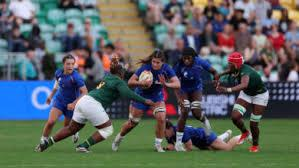ballon_rugby: (138, 69, 154, 90)
